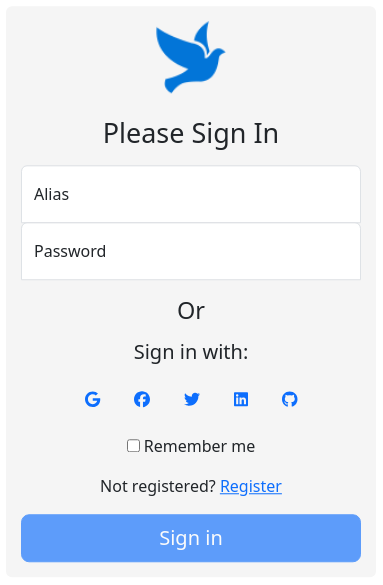
Test: Login Component › disabled the sign in button if either field is cleared
Type "a" into the field labelled "Alias" at (191, 195), box [21,166,361,224]
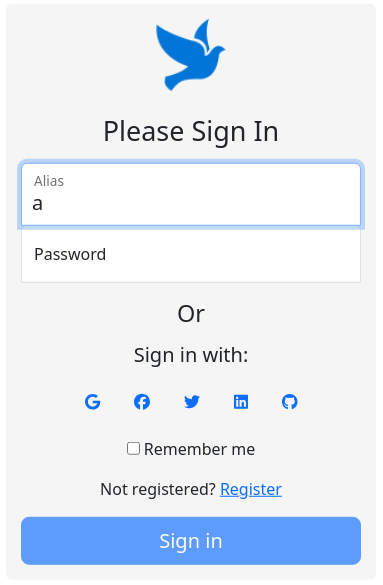
Type "b" into the password field labelled "Password" at (191, 254), box [21,225,361,283]
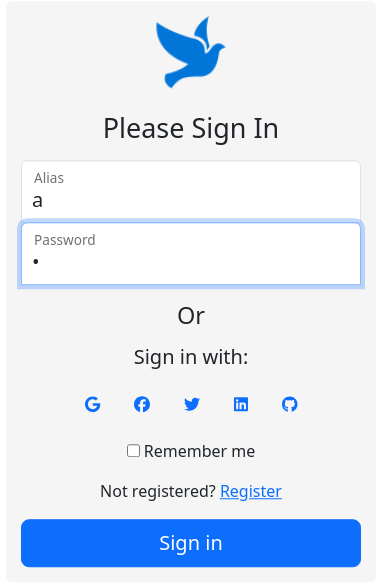
Expected: the button with aria-label "submit-button" is enabled, [21,520,361,568]
Clear the field labelled "Alias" at (191, 192), box [21,161,361,224]
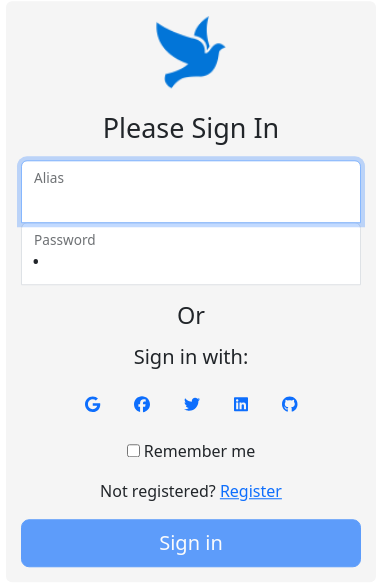
Expected: the button with aria-label "submit-button" is disabled, [21,520,361,568]
Type "c" into the field labelled "Alias" at (191, 192), box [21,161,361,224]
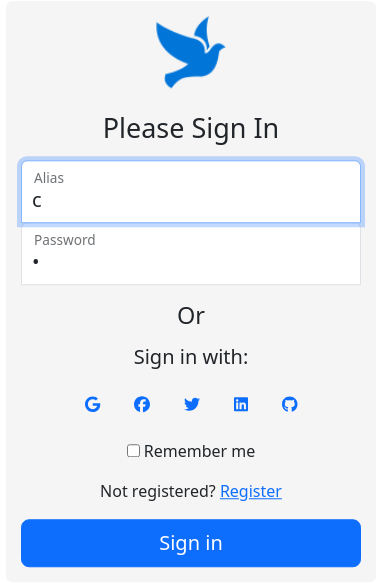
Expected: the button with aria-label "submit-button" is enabled, [21,520,361,568]
Clear the password field labelled "Password" at (191, 254), box [21,223,361,286]
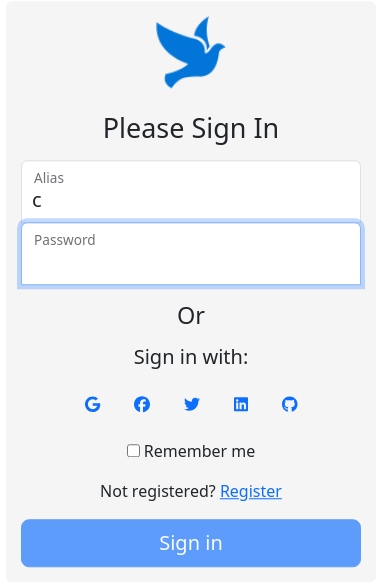
Expected: the button with aria-label "submit-button" is disabled, [21,520,361,568]
